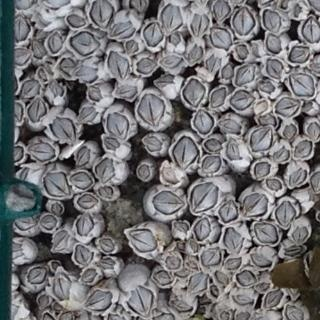Barnacle: (190, 181, 218, 214), (139, 92, 162, 130), (173, 136, 198, 169), (71, 31, 101, 58), (128, 285, 153, 317), (42, 171, 70, 199), (151, 191, 183, 215), (104, 112, 129, 141), (163, 4, 185, 36), (50, 117, 76, 144), (289, 73, 316, 99), (89, 0, 115, 27), (107, 51, 129, 82), (243, 193, 268, 220), (129, 229, 158, 252), (233, 7, 255, 37), (250, 128, 273, 156), (185, 78, 207, 107), (84, 290, 112, 312), (96, 156, 118, 183), (208, 26, 231, 51), (273, 201, 294, 228), (30, 140, 54, 163), (53, 272, 71, 302), (254, 223, 278, 245), (303, 14, 320, 45), (218, 199, 238, 225), (193, 110, 215, 133), (201, 156, 225, 177), (27, 98, 48, 122), (190, 11, 208, 39), (275, 98, 300, 118), (144, 21, 163, 47), (13, 16, 31, 43), (18, 78, 39, 101), (261, 8, 282, 31), (223, 228, 243, 252), (188, 273, 210, 294), (78, 104, 99, 125), (264, 57, 285, 78), (232, 90, 254, 110), (209, 87, 229, 109), (117, 83, 139, 103), (75, 244, 95, 265), (236, 65, 256, 86), (201, 248, 223, 267), (58, 55, 77, 77), (112, 20, 134, 39), (227, 141, 245, 164), (252, 160, 271, 181), (288, 47, 310, 65), (70, 172, 93, 189), (293, 141, 313, 160), (263, 290, 285, 307), (14, 213, 36, 230), (74, 146, 90, 169), (220, 119, 243, 135), (143, 135, 163, 153), (154, 270, 175, 287), (204, 137, 225, 154), (78, 66, 99, 83), (137, 57, 158, 74), (77, 214, 93, 236), (64, 12, 86, 28), (215, 0, 231, 22), (53, 230, 68, 253), (195, 218, 210, 241), (28, 267, 46, 286), (136, 163, 154, 182), (289, 168, 305, 189), (48, 30, 63, 52), (159, 166, 177, 184), (204, 55, 222, 73), (264, 35, 282, 53), (292, 225, 309, 244), (236, 270, 256, 286), (77, 193, 97, 209), (161, 54, 183, 68), (258, 80, 276, 97), (29, 41, 46, 59), (87, 86, 104, 103), (187, 46, 204, 63), (13, 48, 29, 66), (13, 0, 37, 12), (284, 122, 299, 141), (130, 0, 149, 15), (103, 139, 121, 154), (50, 82, 65, 100), (251, 254, 270, 268), (156, 75, 175, 89), (82, 268, 98, 284), (165, 255, 181, 271), (285, 305, 302, 320), (173, 221, 190, 236), (274, 148, 291, 163), (258, 114, 276, 128), (172, 298, 191, 311), (41, 215, 57, 230), (220, 64, 235, 80), (265, 178, 282, 192), (234, 292, 253, 304), (100, 258, 116, 272), (36, 68, 50, 84), (226, 257, 243, 270), (307, 123, 320, 140), (285, 245, 303, 257), (215, 269, 228, 285), (99, 239, 115, 252), (236, 46, 250, 60), (125, 40, 139, 54), (311, 171, 320, 192), (38, 294, 52, 307), (254, 101, 267, 114), (35, 26, 47, 40), (235, 310, 251, 320), (188, 240, 199, 254), (59, 311, 74, 320), (187, 260, 199, 271), (177, 268, 189, 278), (52, 203, 62, 215), (211, 284, 219, 298), (259, 281, 270, 291), (219, 311, 231, 320), (170, 37, 182, 46), (313, 60, 320, 74)
